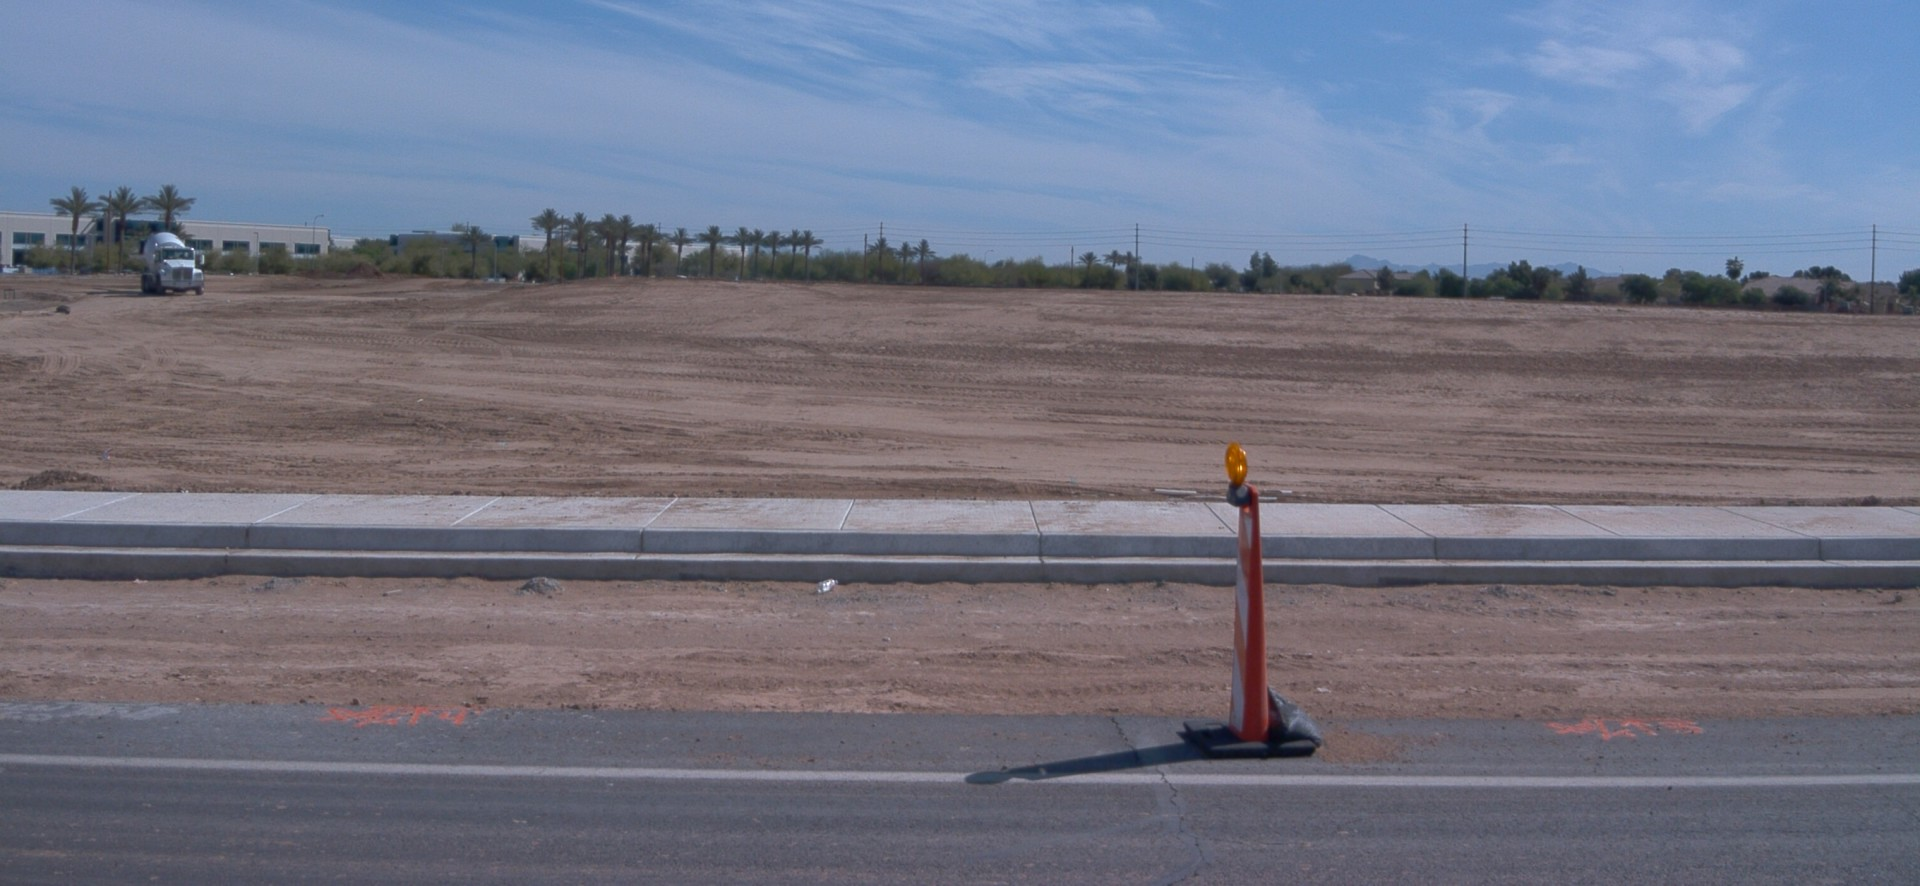TYPE_VEHICLE: (140, 227, 207, 295), (676, 276, 686, 280)
